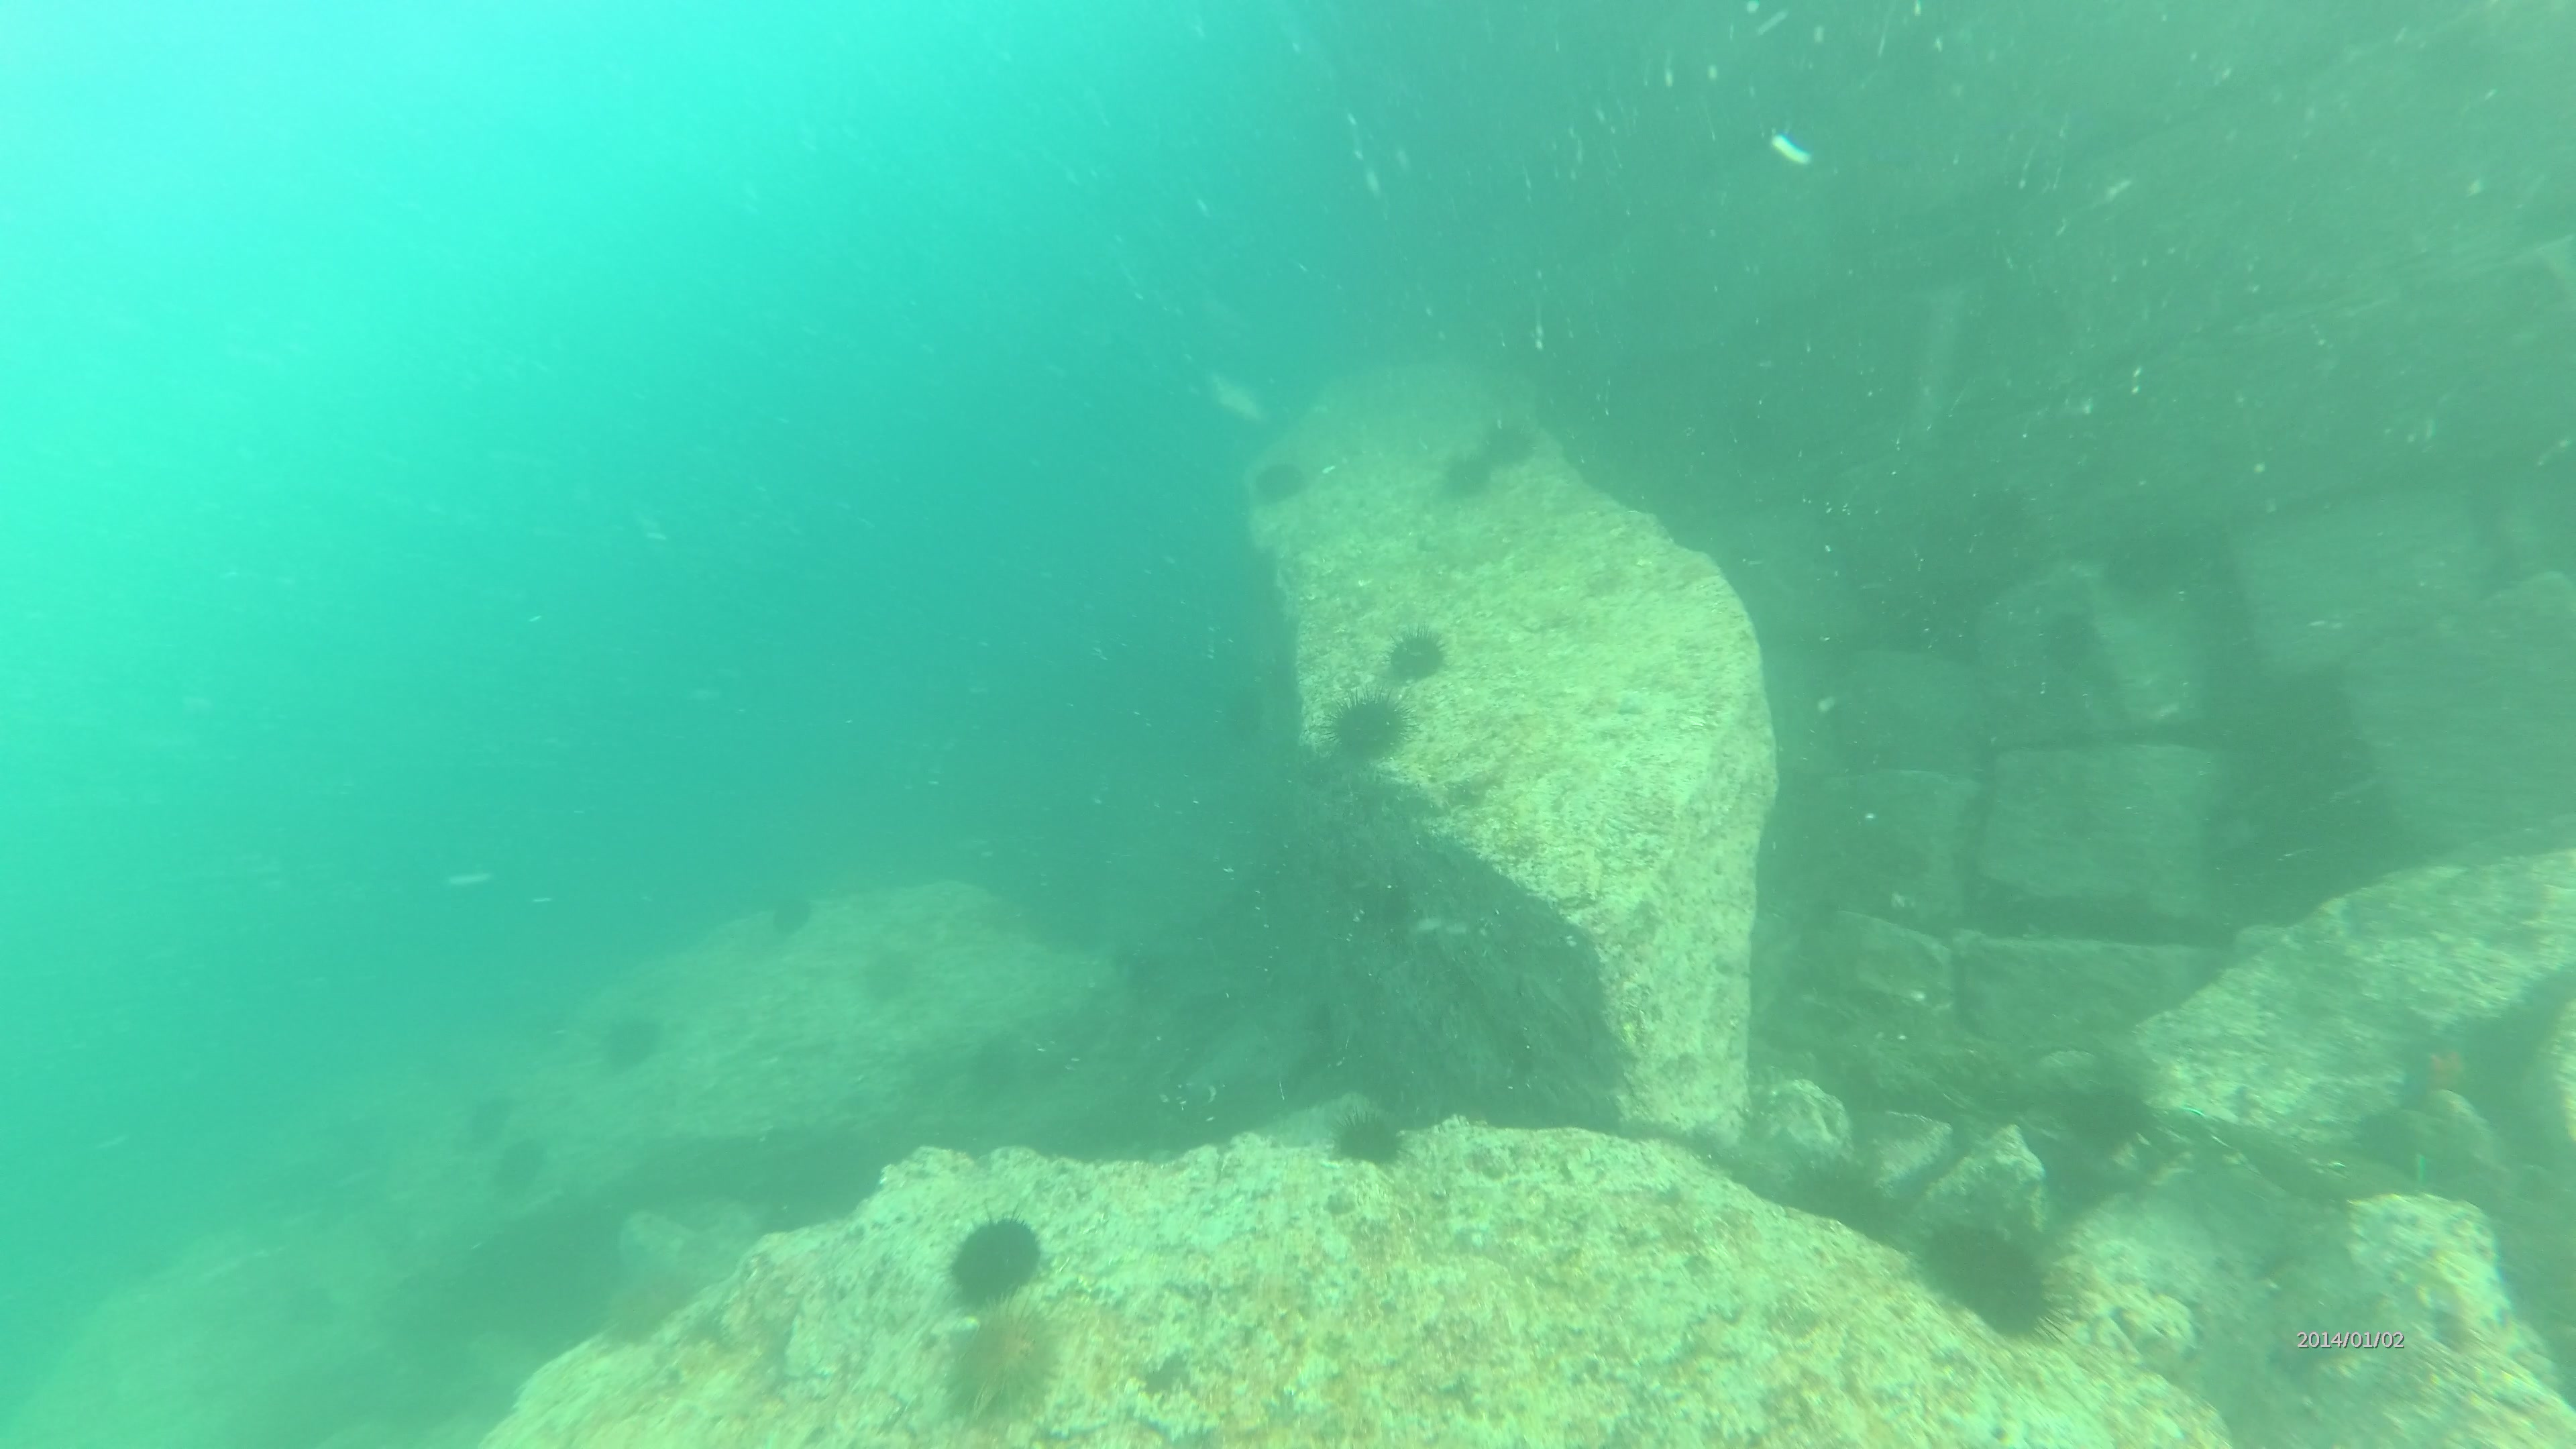echinus: (1911, 1212, 2084, 1355), (932, 1306, 1079, 1424), (1785, 1145, 1888, 1253), (941, 1208, 1047, 1311), (1320, 1104, 1419, 1171), (479, 1134, 561, 1214), (462, 1076, 529, 1161), (1334, 697, 1410, 771), (849, 941, 924, 1014), (1244, 444, 1315, 518), (1382, 616, 1453, 685), (957, 1035, 1023, 1109), (764, 872, 817, 957), (1477, 410, 1545, 471), (609, 1012, 665, 1076), (1433, 449, 1499, 495)
